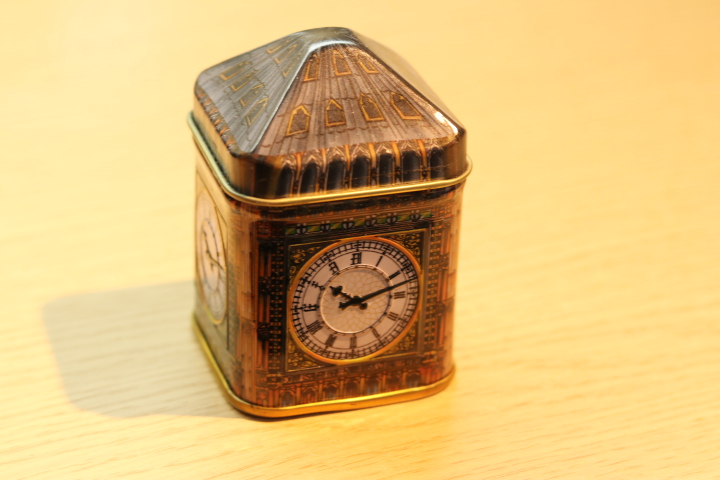Big Ben: (174, 11, 497, 442)
